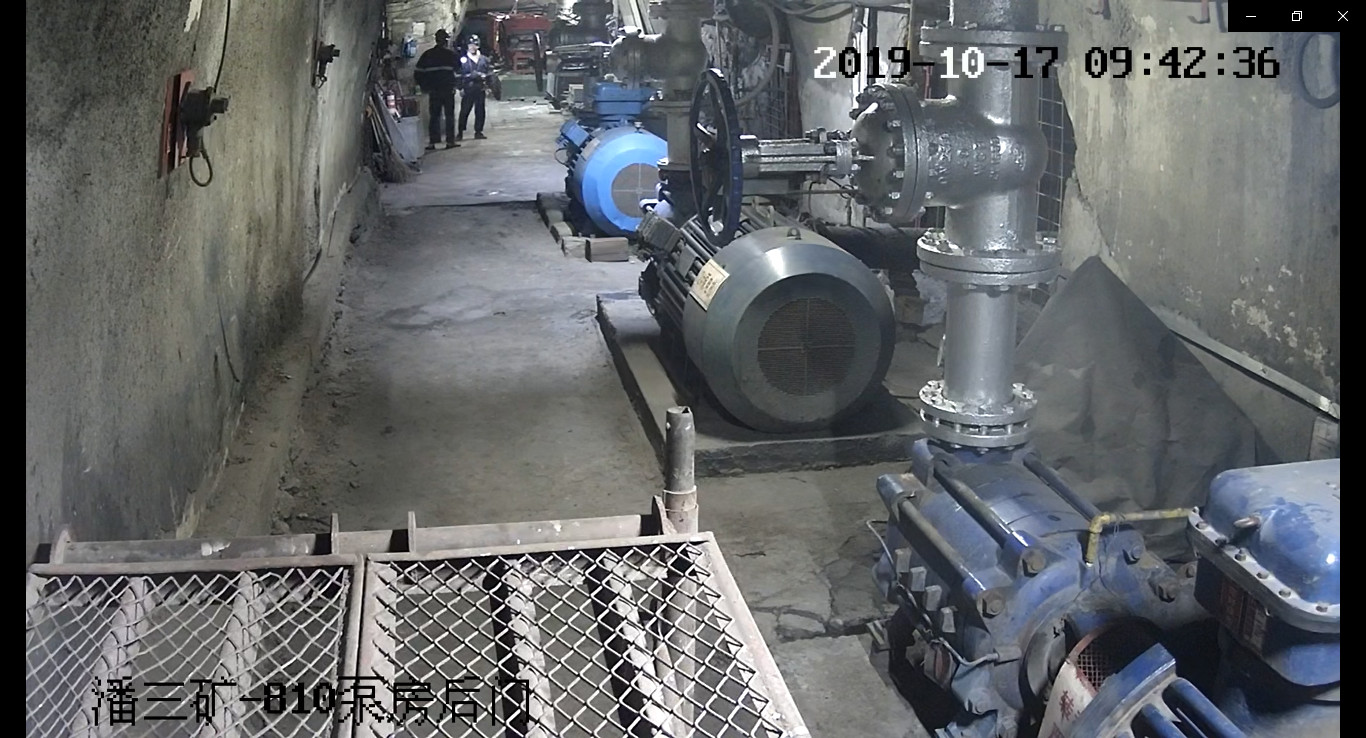helmet: (434, 28, 452, 38), (467, 33, 481, 44)
